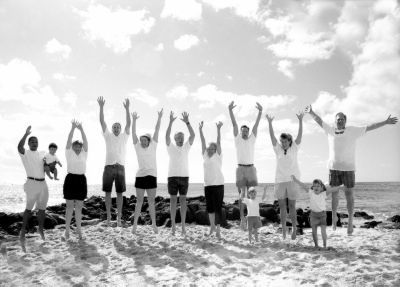person: (304, 105, 400, 237), (266, 113, 305, 242), (97, 95, 134, 229), (16, 126, 58, 243)
